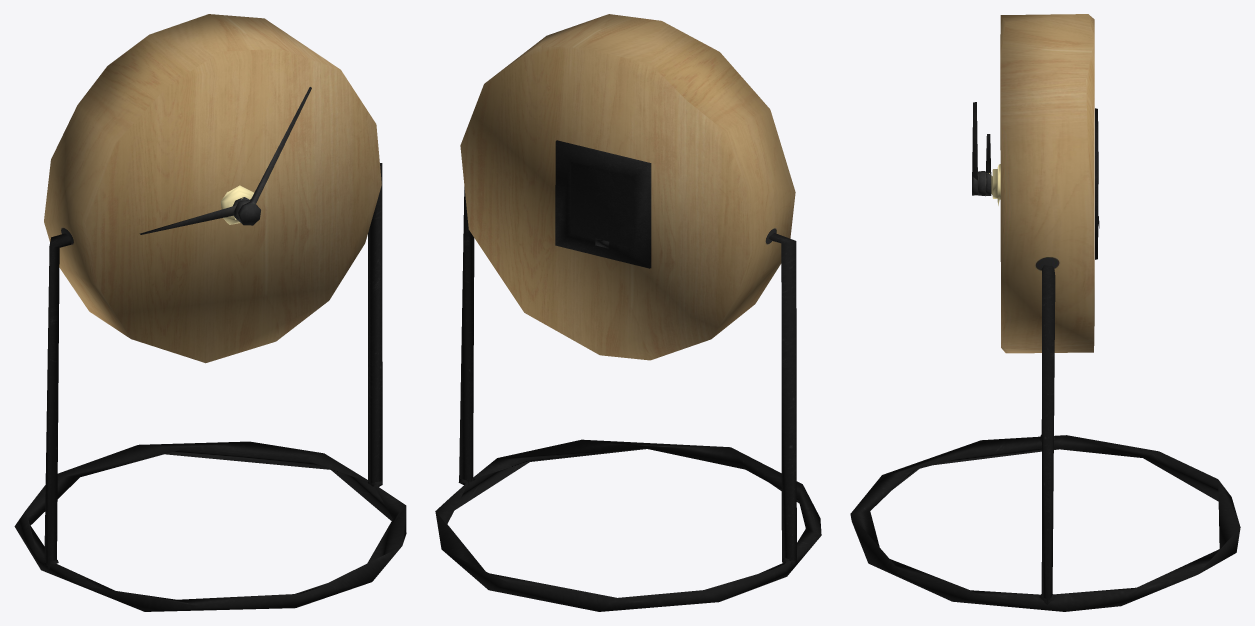
File: desk clock.gltf
3 views of the same model, side by side, from view 1: azimuth 30°, elevation 25°; view 2: azimuth 150°, elevation 25°; view 3: azimuth 270°, elevation 25° (orthographic).
Visible parts, largest first — view 1: WoodenBody; view 2: WoodenBody; view 3: WoodenBody.
Boxes of the visible parts, left/top/right/bottom form: WoodenBody: left=14, top=14, right=406, bottom=611; WoodenBody: left=435, top=14, right=821, bottom=611; WoodenBody: left=850, top=14, right=1240, bottom=611.
Bounding box in the file's own units: 0.2011 × 0.2852 × 0.2012.
Materials: 1 (1 with a texture image).
